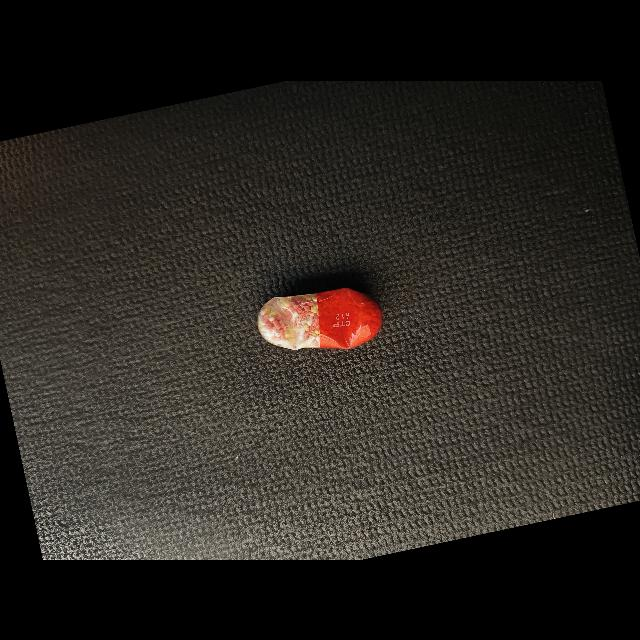Defective Capsule: (257, 287, 383, 350)
